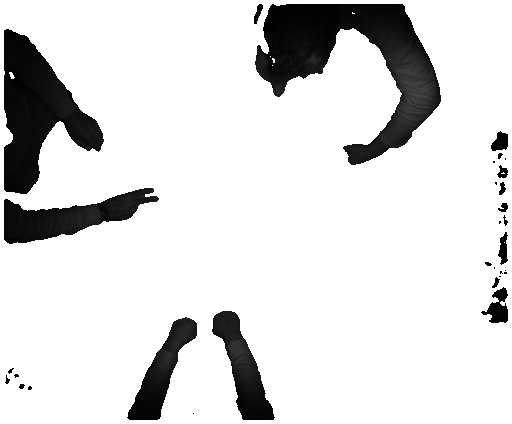fist: (66, 110, 103, 151), (211, 304, 247, 340), (336, 136, 373, 167), (167, 312, 199, 346)
hand: (105, 184, 159, 223)
